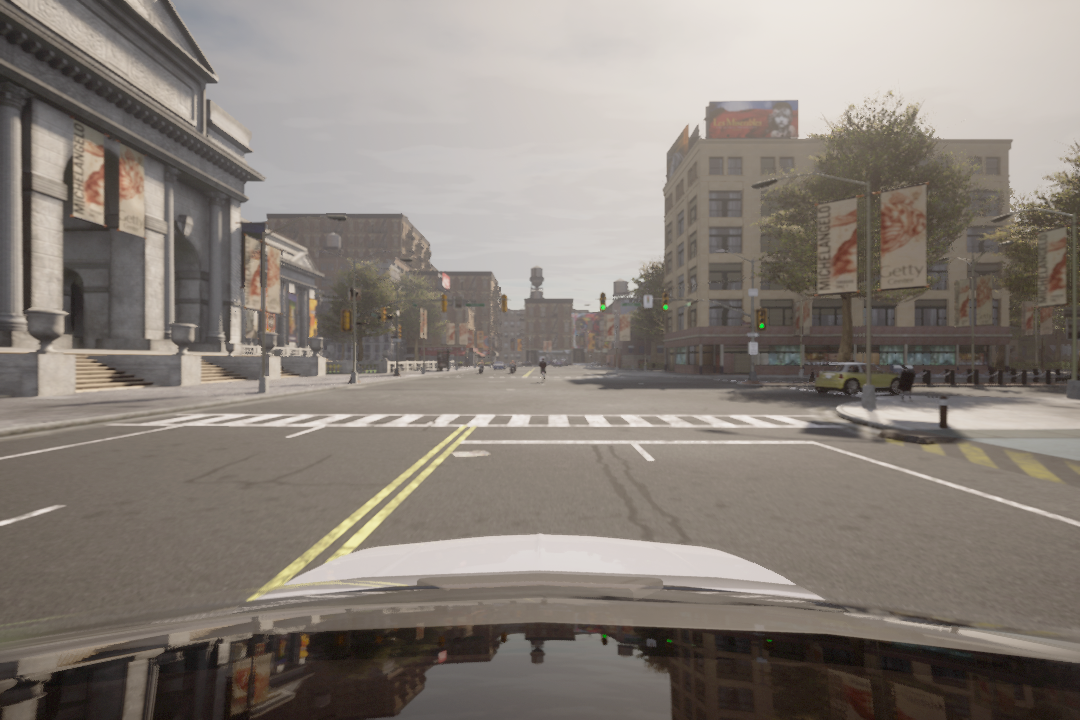TrafficLight: (756, 309, 767, 331), (661, 292, 671, 313), (597, 294, 607, 314)
walkside: (123, 406, 855, 437)
